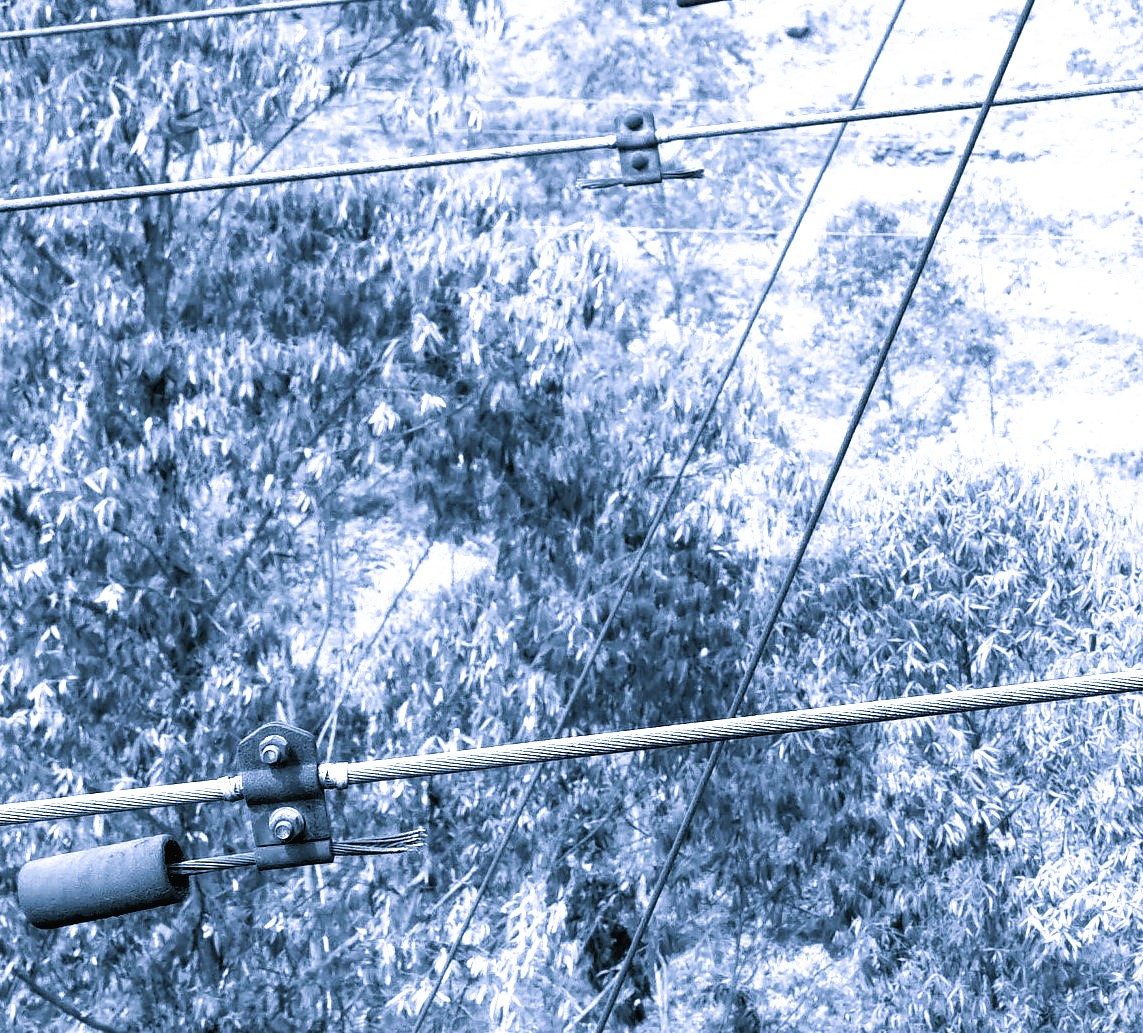Damage of shockproof hammer: (1, 710, 437, 936), (562, 94, 724, 203)
